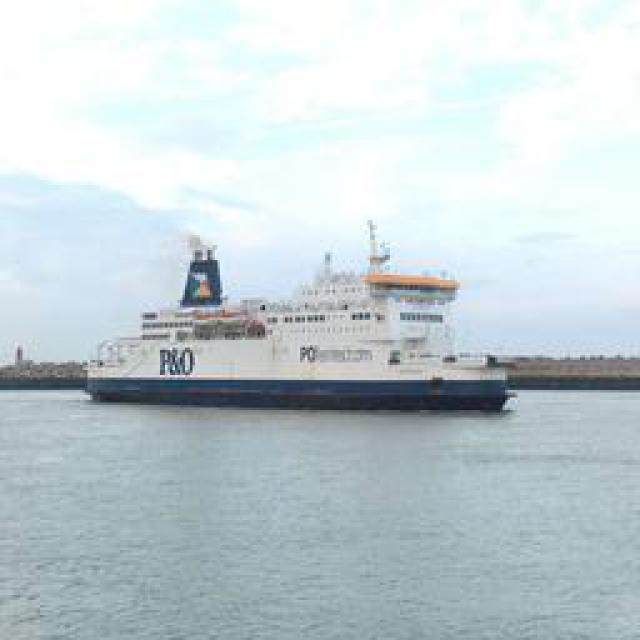Ship: (86, 233, 521, 411)
